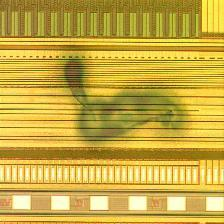COATING BAD: (53, 47, 202, 152)
